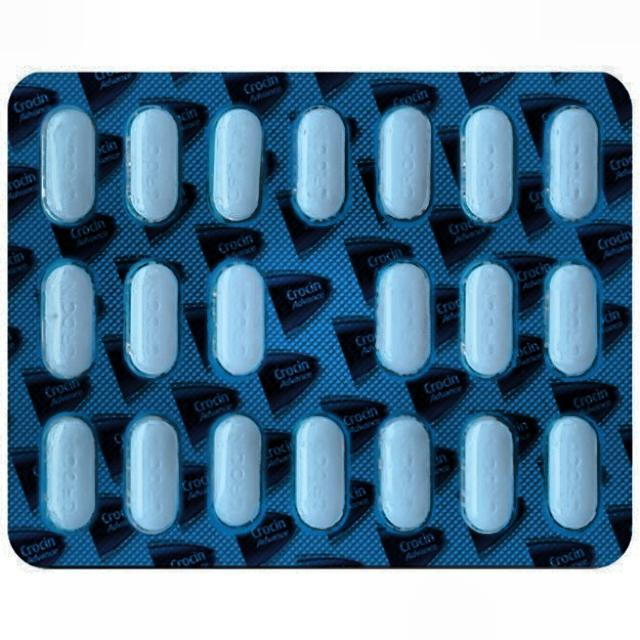Crocin: (11, 81, 630, 562)
